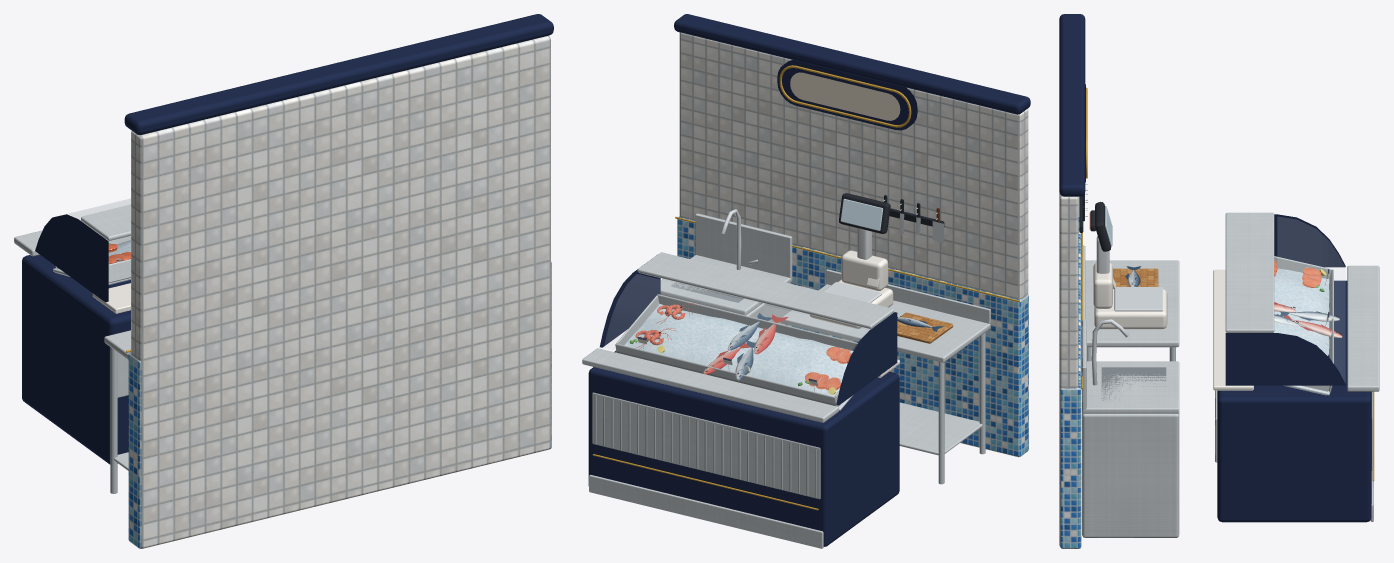
File: sector-peixaria_T1.fbx
3 views of the same model, side by side, from view 1: azimuth 30°, elevation 25°; view 2: azimuth 150°, elevation 25°; view 3: azimuth 270°, elevation 25° (orthographic). The views are drawn at different scales.
Parts seen in each view (by area): view 1: Body; view 2: Body; view 3: Body.
Boxes of the visible parts, <box> form: Body: <box>14,14,553,548</box>; Body: <box>582,14,1030,548</box>; Body: <box>1059,14,1379,548</box>.
Size of the model in its own units: 2.54 by 2.48 by 1.98.
